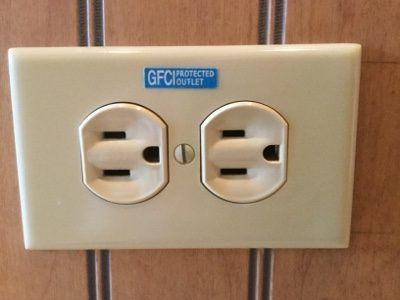outlet: (215, 123, 285, 182), (93, 125, 164, 183)
